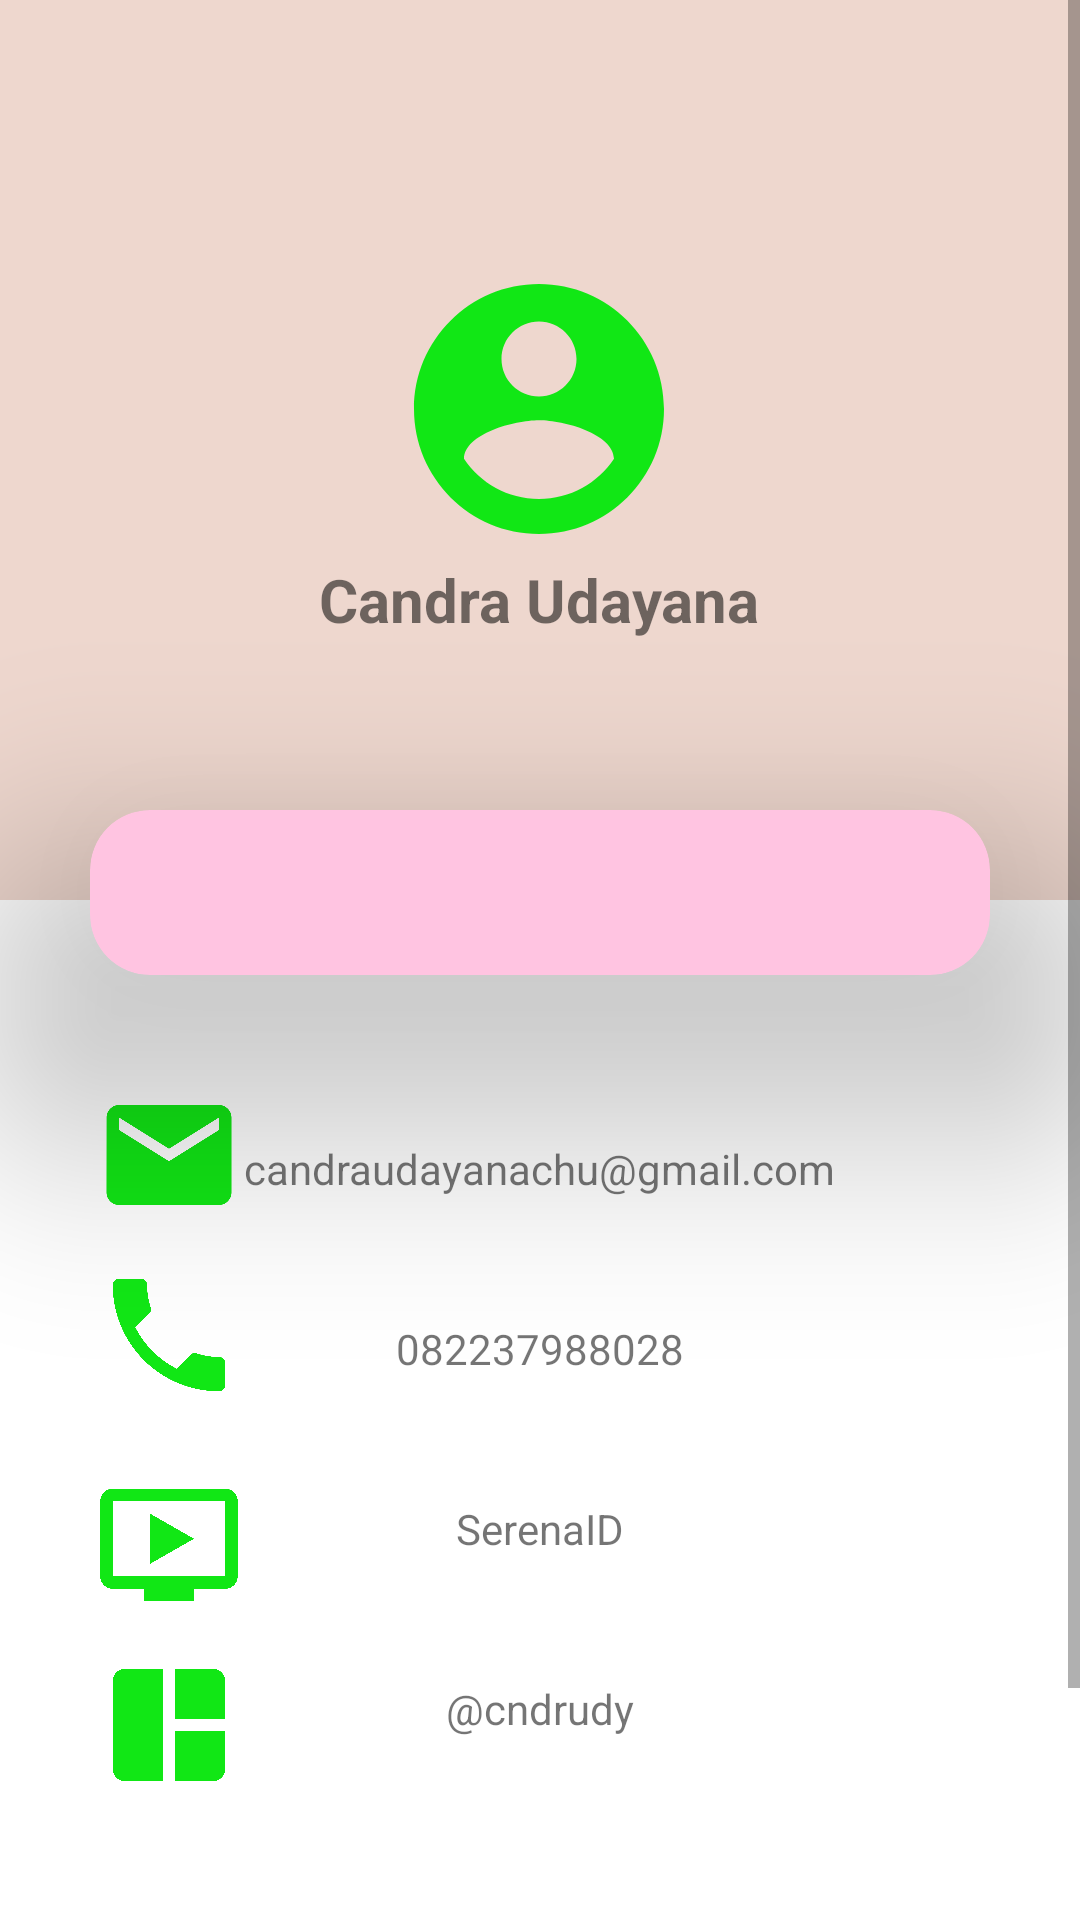

Point at icon controls on the screen. Image size 1080 x 1920, points as (x,y).
akun: (539,409)
email: (169,1155)
phone: (169,1335)
